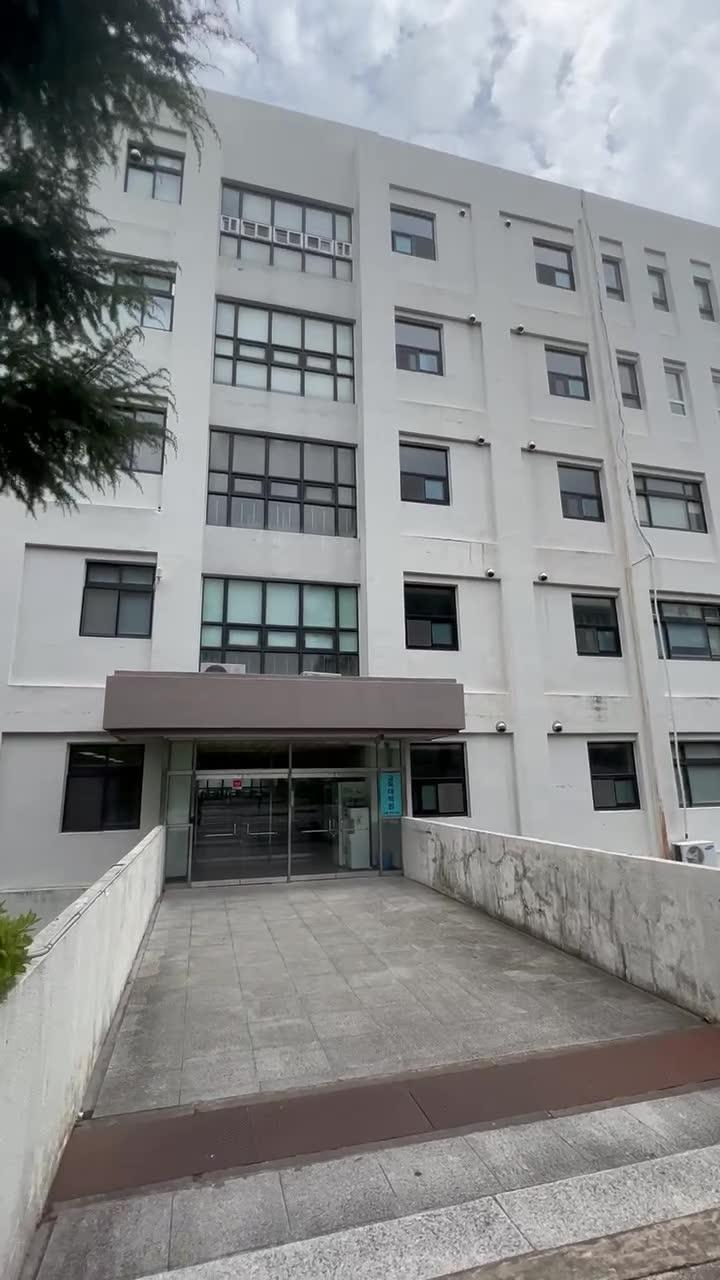building: (114, 122, 720, 880)
